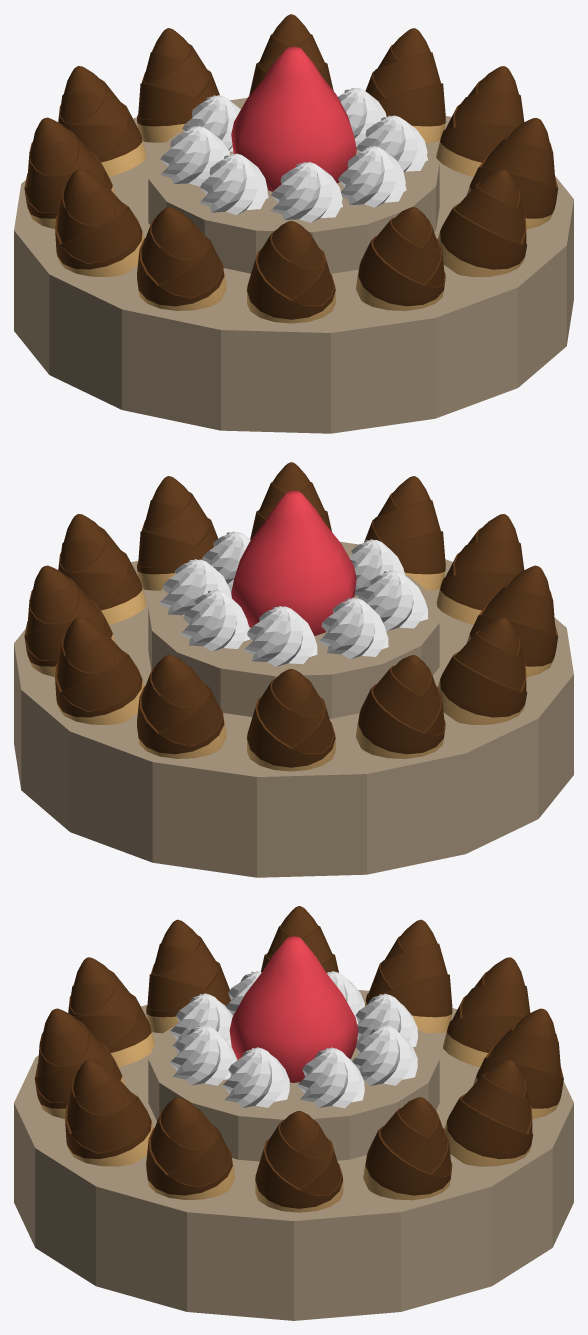
The model's file is takenokocake.fbx.
3 renders of one model, top to bottom at view 1: azimuth 30°, elevation 25°; view 2: azimuth 150°, elevation 25°; view 3: azimuth 270°, elevation 25°, orthographic.
Visible parts, largest first — view 1: 円.002, 円柱, 平面|円.008|Dupli|3, 平面|円.008|Dupli|11, 平面|円.008|Dupli|2, 平面|円.008|Dupli|, 平面|円.008|Dupli|1, 平面|円.008|Dupli|6, 平面|円.008|Dupli|8, 平面|円.008|Dupli|5, 平面|円.008|Dupli|9, 平面|円.008|Dupli|10 (+9 smaller); view 2: 円.002, 円柱, 平面|円.008|Dupli|7, 平面|円.008|Dupli|3, 平面|円.008|Dupli|6, 平面|円.008|Dupli|4, 平面|円.008|Dupli|5, 平面|円.008|Dupli|10, 平面|円.008|Dupli|9, 平面|円.008|Dupli|1, 平面|円.008|Dupli|, 平面|円.008|Dupli|8 (+9 smaller); view 3: 円.002, 円柱, 平面|円.008|Dupli|11, 平面|円.008|Dupli|7, 平面|円.008|Dupli|10, 平面|円.008|Dupli|8, 平面|円.008|Dupli|9, 平面|円.008|Dupli|4, 平面|円.008|Dupli|2, 平面|円.008|Dupli|1, 平面|円.008|Dupli|5, 平面|円.008|Dupli| (+10 smaller).
Boxes of the visible parts, x1,y1,x2,y2 form: 円.002: (14,98,573,433); 円柱: (231,46,356,191); 平面|円.008|Dupli|3: (55,169,144,276); 平面|円.008|Dupli|11: (438,169,526,277); 平面|円.008|Dupli|2: (137,207,226,310); 平面|円.008|Dupli|: (356,207,445,310); 平面|円.008|Dupli|1: (247,221,335,323); 平面|円.008|Dupli|6: (137,28,219,142); 平面|円.008|Dupli|8: (365,28,445,142); 平面|円.008|Dupli|5: (58,66,146,176); 平面|円.008|Dupli|9: (436,66,524,176); 平面|円.008|Dupli|10: (466,118,558,229); 円.002: (14,541,573,877); 円柱: (231,490,356,635); 平面|円.008|Dupli|7: (55,617,144,724); 平面|円.008|Dupli|3: (438,617,527,724); 平面|円.008|Dupli|6: (137,655,226,758); 平面|円.008|Dupli|4: (356,655,445,758); 平面|円.008|Dupli|5: (247,669,335,771); 平面|円.008|Dupli|10: (137,476,217,590); 平面|円.008|Dupli|9: (58,514,146,624); 平面|円.008|Dupli|1: (436,514,524,624); 平面|円.008|Dupli|: (364,476,445,590); 平面|円.008|Dupli|8: (24,565,115,676); 円.002: (14,990,573,1320); 円柱: (229,936,358,1082); 平面|円.008|Dupli|11: (65,1059,153,1166); 平面|円.008|Dupli|7: (444,1059,533,1166); 平面|円.008|Dupli|10: (146,1097,235,1200); 平面|円.008|Dupli|8: (363,1097,452,1200); 平面|円.008|Dupli|9: (255,1111,343,1212); 平面|円.008|Dupli|4: (365,919,452,1033); 平面|円.008|Dupli|2: (146,919,230,1033); 平面|円.008|Dupli|1: (68,957,154,1067); 平面|円.008|Dupli|5: (443,957,530,1067); 平面|円.008|Dupli|: (34,1008,125,1118).
Bounding box in the file's own units: 78.15 × 40.53 × 78.15.
